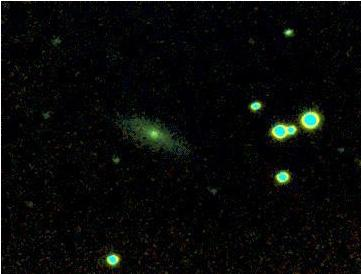star: (17, 188, 47, 218)
